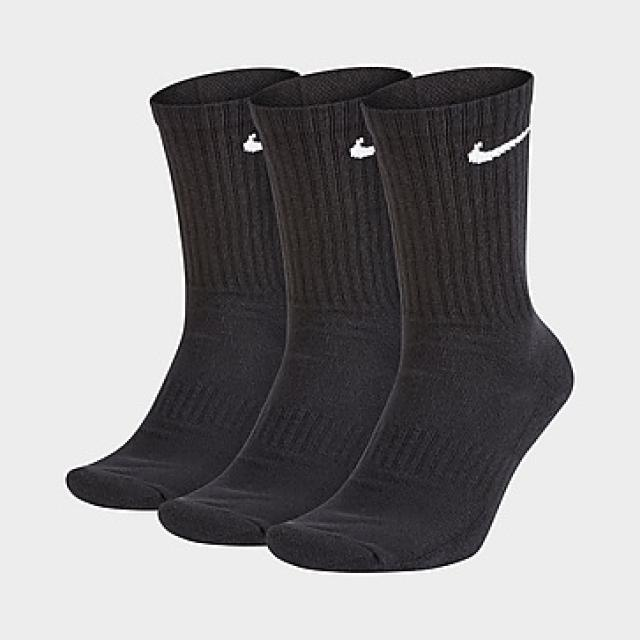sock: (264, 65, 573, 573), (157, 65, 412, 545), (65, 65, 298, 510)
